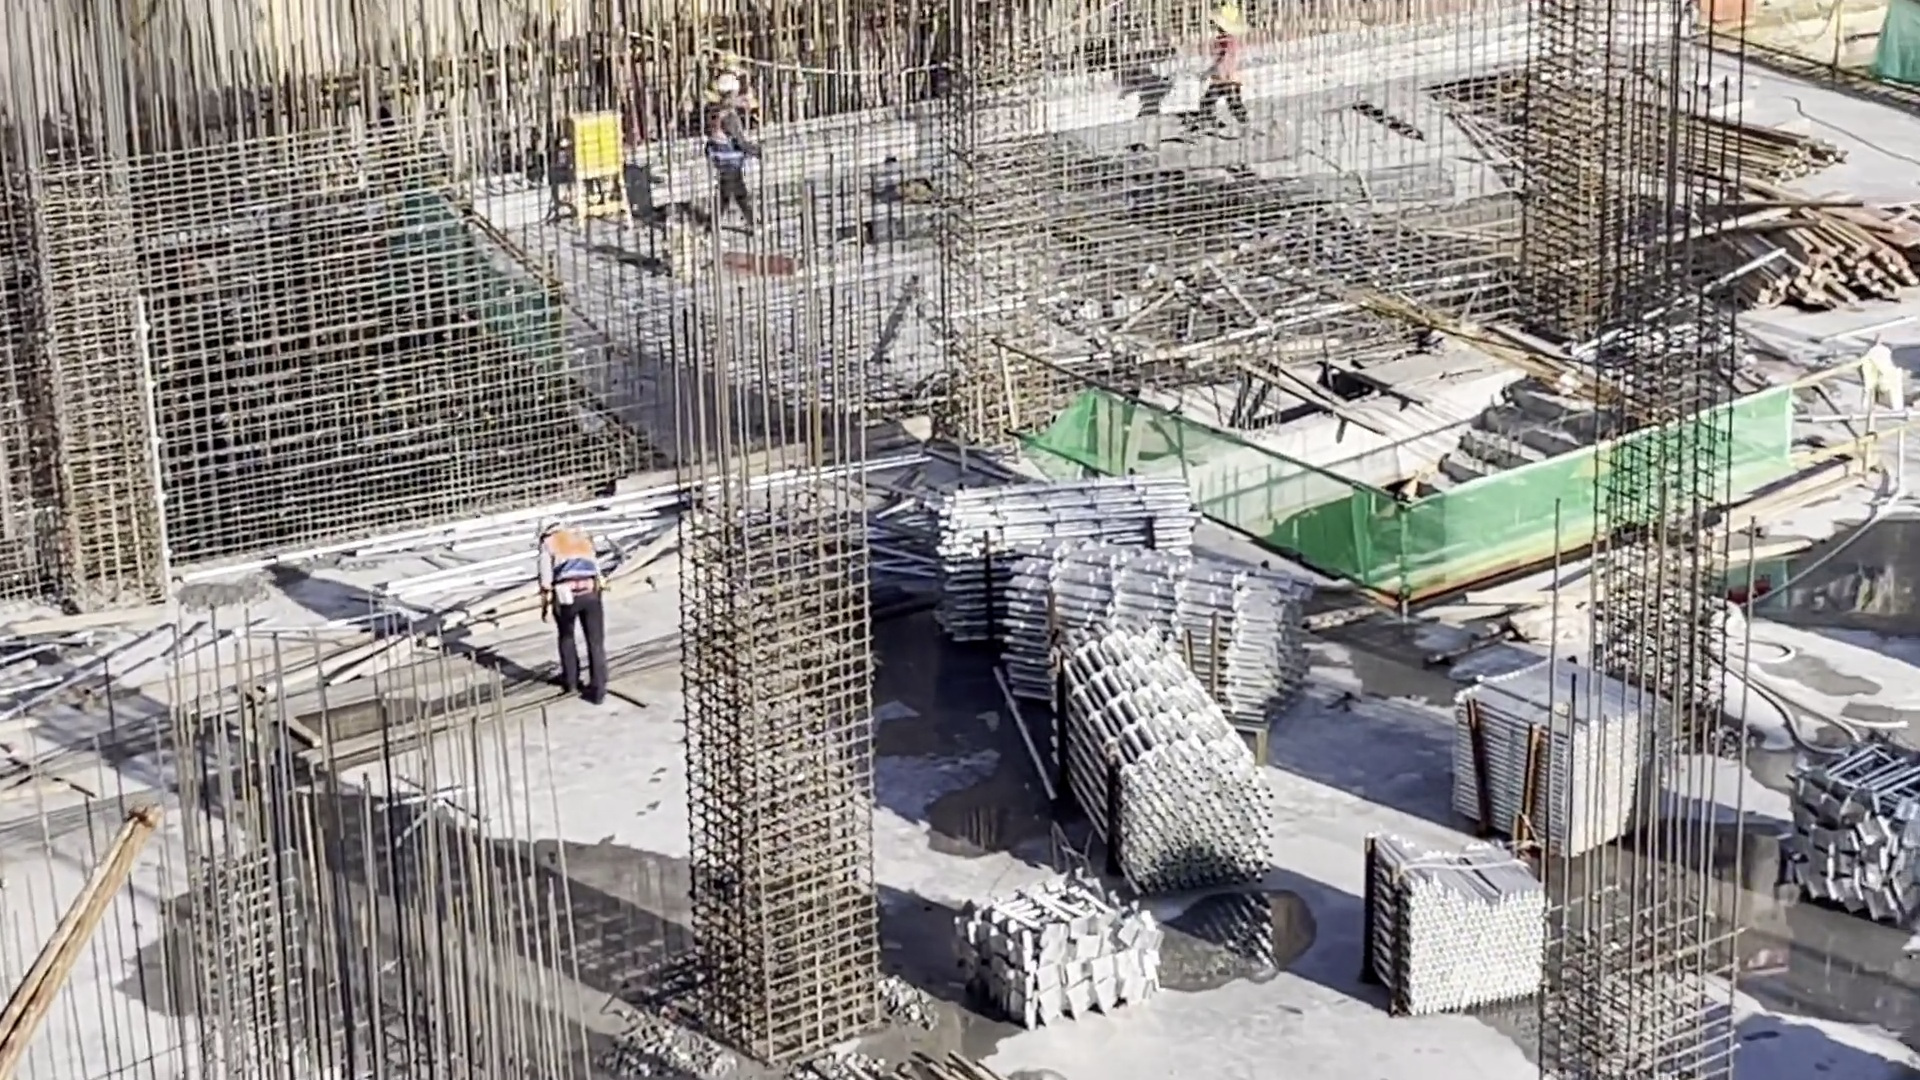ebox: (551, 105, 627, 195)
helmet: (1215, 8, 1242, 27), (716, 74, 741, 93), (540, 514, 562, 529)
person: (535, 516, 612, 703), (708, 72, 774, 241), (1199, 8, 1254, 132)
scaffold: (1017, 557, 1281, 723), (1037, 649, 1231, 873), (1356, 831, 1550, 1014), (1479, 671, 1654, 851), (936, 455, 1237, 557)
vest: (543, 535, 595, 595), (717, 113, 751, 183), (1214, 35, 1239, 75)
wood: (1583, 97, 1825, 179), (1724, 215, 1920, 309)
